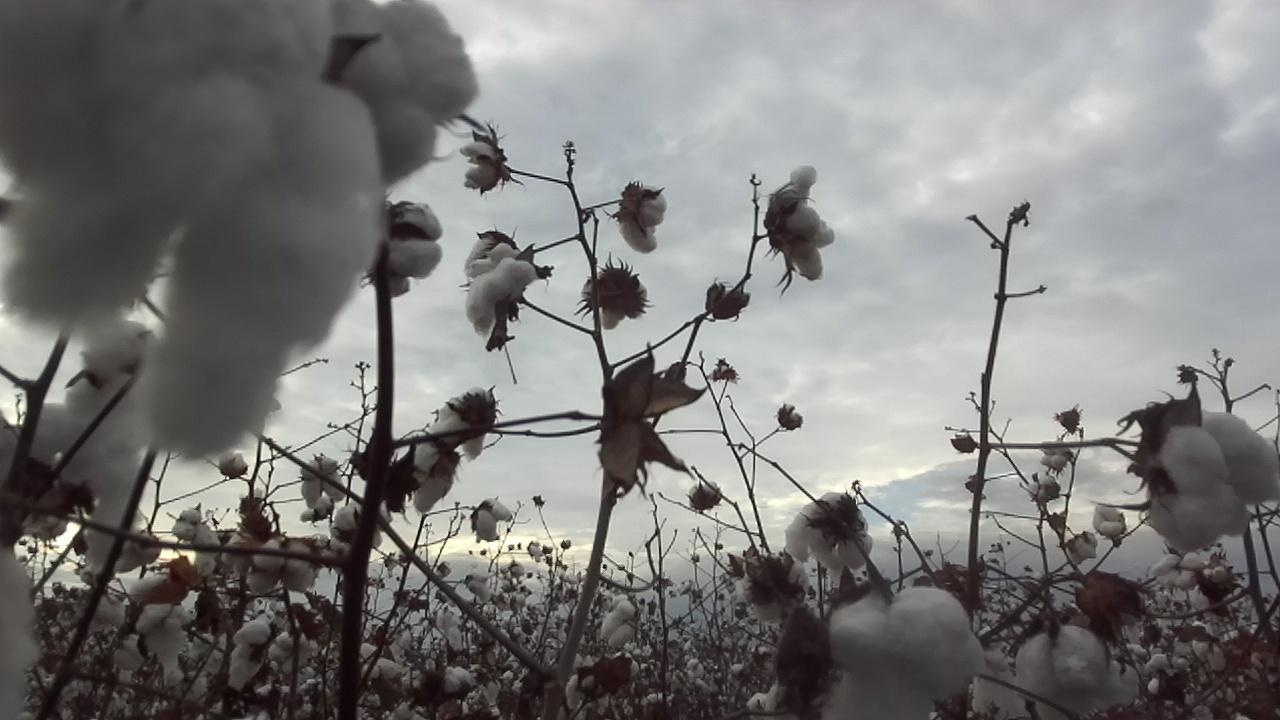cotton_ready: (0, 0, 483, 465), (27, 324, 169, 570), (817, 585, 980, 720), (1145, 409, 1280, 554), (1020, 630, 1132, 719), (769, 164, 835, 285), (0, 544, 45, 720), (786, 490, 869, 575), (380, 199, 442, 301), (469, 242, 532, 333), (974, 625, 1028, 715), (433, 387, 492, 462), (139, 602, 192, 685), (745, 557, 807, 625), (580, 271, 649, 330), (400, 444, 455, 510), (245, 544, 315, 593), (624, 182, 669, 256), (333, 499, 392, 551), (464, 232, 510, 281), (459, 137, 499, 193)
